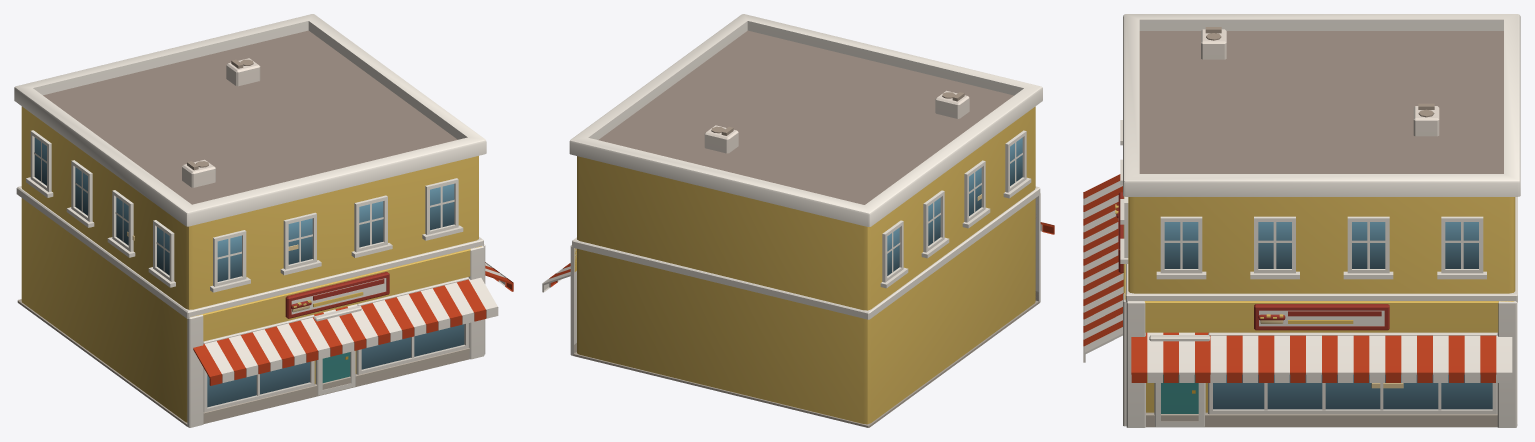
The model's file is hotdog_shop.glb.
The picture shows the model from 3 angles, left to right: view 1: azimuth 30°, elevation 25°; view 2: azimuth 150°, elevation 25°; view 3: azimuth 270°, elevation 25°; orthographic projection. The views are drawn at different scales.
Visible parts, largest first — view 1: hotdog_shop; view 2: hotdog_shop; view 3: hotdog_shop.
Boxes of the visible parts, box(x1,y1,x2,y2) form: hotdog_shop: box(14, 14, 513, 427); hotdog_shop: box(542, 14, 1054, 427); hotdog_shop: box(1083, 14, 1520, 427).
Bounding box in the file's own units: 13.63 × 8.79 × 13.55.
1 material, 1 textured.
